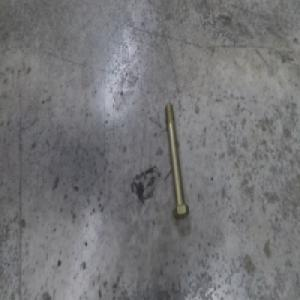Bolt: (164, 105, 189, 219)
